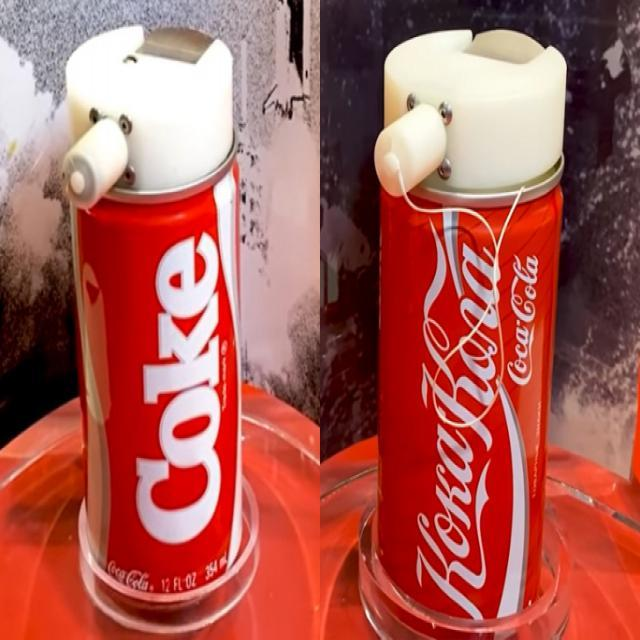coca-cola: (374, 177, 566, 627), (62, 173, 254, 607)
